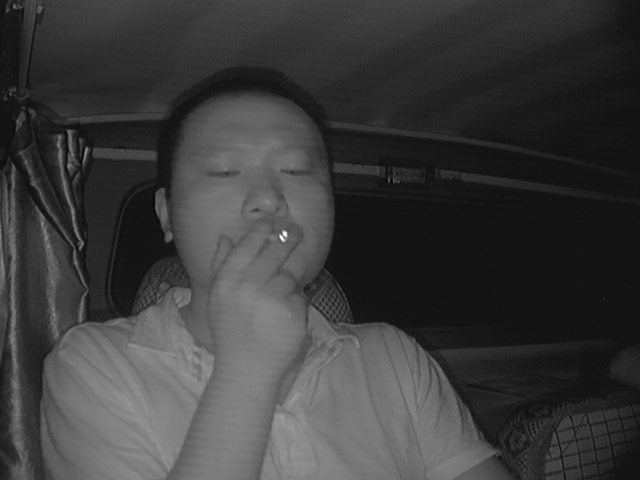hand: (225, 223, 315, 332)
